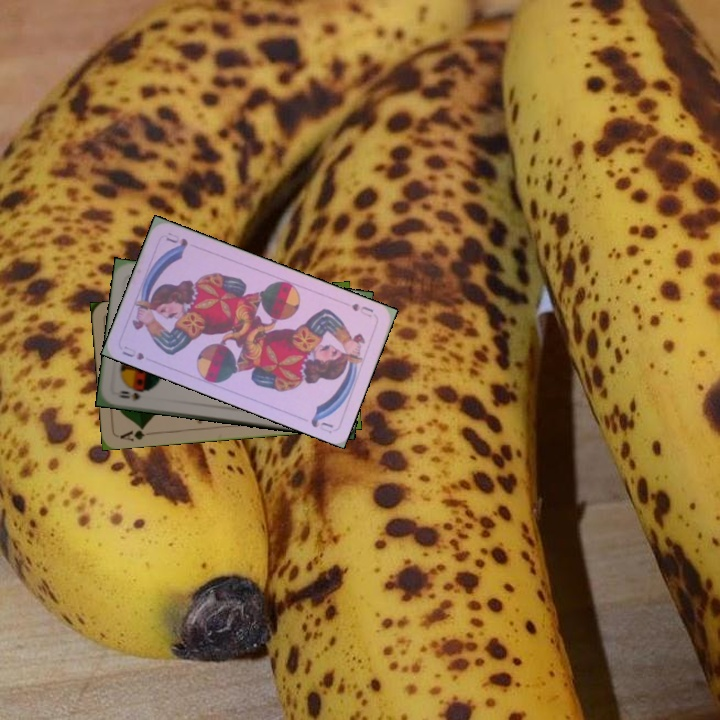GA: (116, 422, 156, 443)
SO: (112, 387, 143, 404)
SU: (118, 342, 147, 363), (347, 299, 376, 320)
